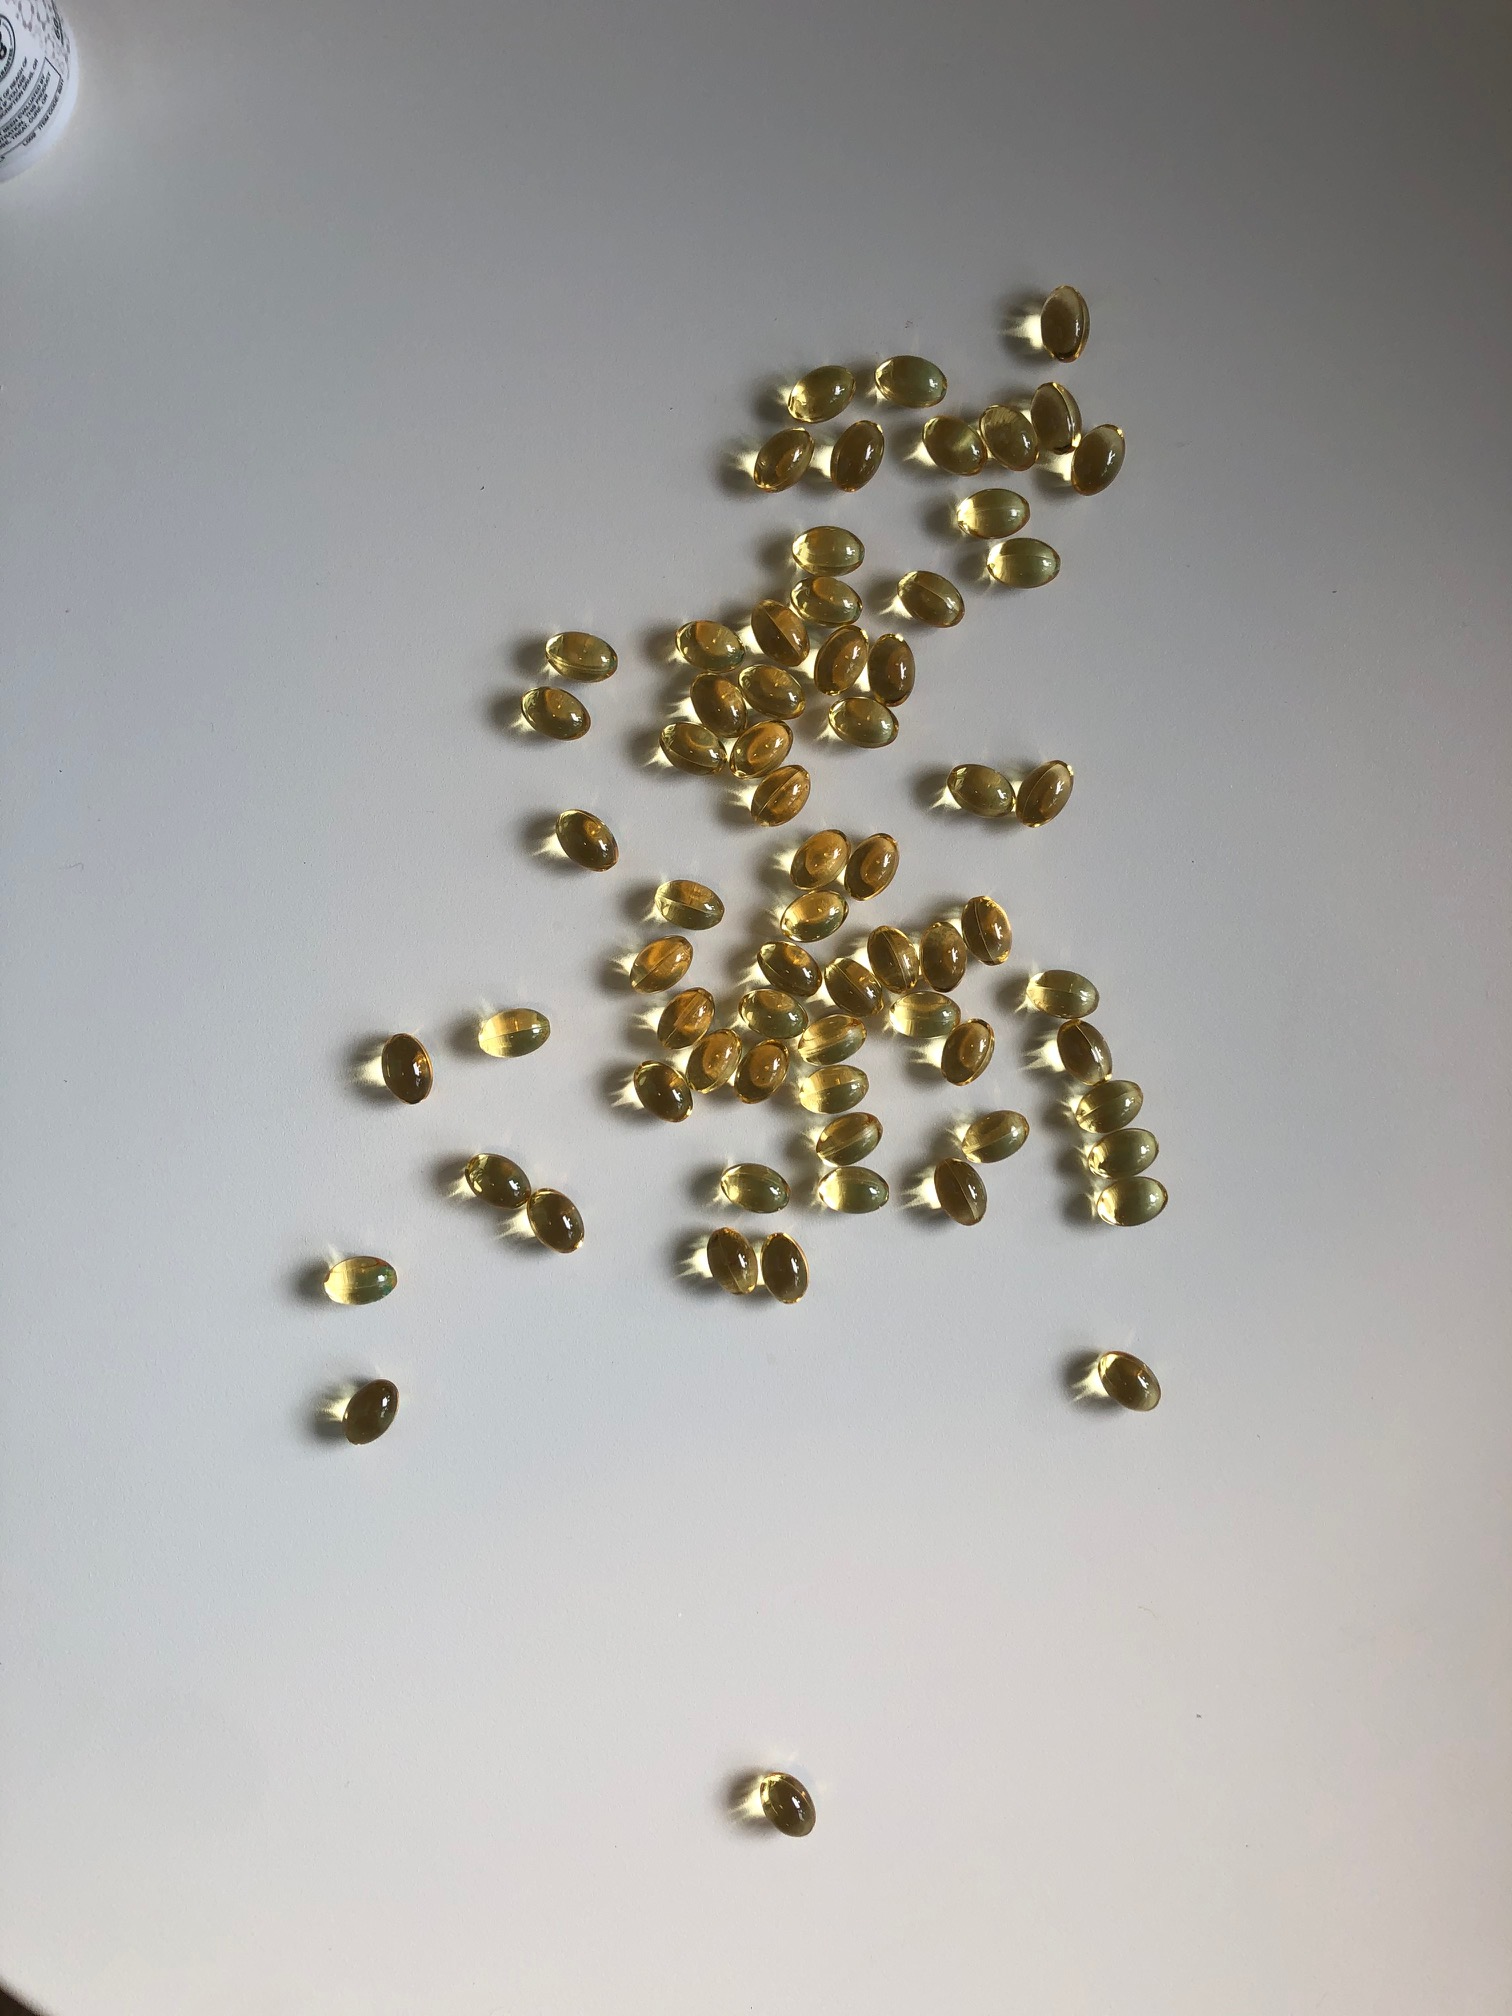gel: (746, 1765, 824, 1843), (548, 803, 623, 876), (1037, 279, 1097, 365), (1015, 756, 1078, 833), (718, 1154, 796, 1218), (745, 422, 815, 492), (915, 914, 974, 997), (783, 360, 859, 424), (457, 1149, 535, 1211), (928, 1151, 988, 1230), (870, 352, 953, 410), (1070, 422, 1132, 498), (824, 694, 904, 752), (896, 567, 967, 632), (824, 952, 888, 1025), (827, 421, 888, 497), (1074, 1076, 1150, 1137), (1094, 1348, 1163, 1414), (754, 937, 824, 1002), (1051, 1016, 1117, 1086), (982, 537, 1066, 591), (947, 762, 1018, 825), (543, 632, 623, 689), (634, 1057, 697, 1129), (748, 594, 810, 667), (785, 576, 870, 629), (866, 627, 920, 710), (378, 1029, 435, 1106), (746, 762, 815, 827), (788, 829, 853, 897), (523, 1189, 588, 1257), (920, 416, 989, 479), (683, 1027, 745, 1098), (758, 1227, 813, 1306), (980, 402, 1040, 475), (810, 621, 870, 694), (732, 1037, 793, 1110), (962, 891, 1016, 971), (815, 1162, 896, 1216), (322, 1254, 399, 1311), (732, 718, 796, 786), (953, 487, 1036, 540), (735, 660, 807, 721), (658, 721, 731, 779), (1083, 1125, 1163, 1179), (1090, 1175, 1174, 1225), (797, 1060, 872, 1118), (338, 1381, 403, 1446), (654, 987, 718, 1054), (935, 1018, 997, 1086), (475, 1006, 553, 1060), (866, 921, 923, 994), (788, 524, 867, 576), (518, 686, 592, 741), (707, 1227, 762, 1302), (1028, 379, 1082, 456), (842, 832, 901, 902), (1024, 967, 1102, 1019), (808, 1111, 886, 1164), (735, 989, 812, 1041), (650, 879, 727, 930), (959, 1110, 1032, 1164), (688, 675, 748, 740), (631, 933, 692, 995), (670, 619, 743, 671), (889, 986, 958, 1041), (800, 1013, 869, 1068), (781, 889, 847, 941)
